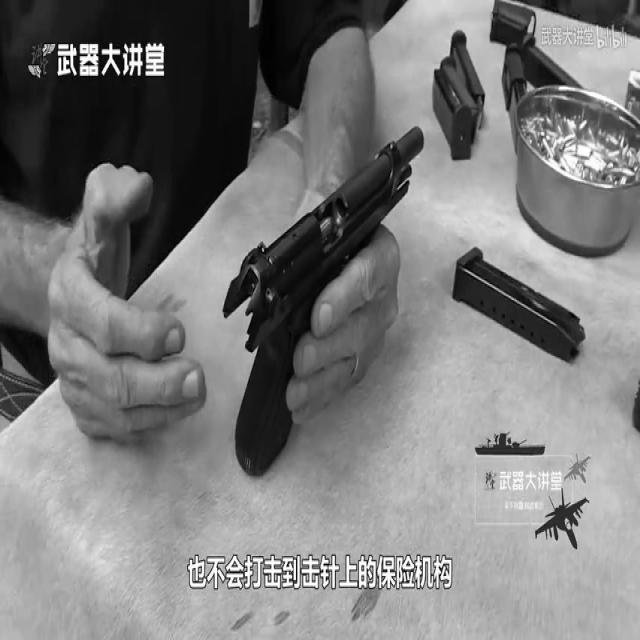Hand-Gun: (215, 78, 466, 500)
